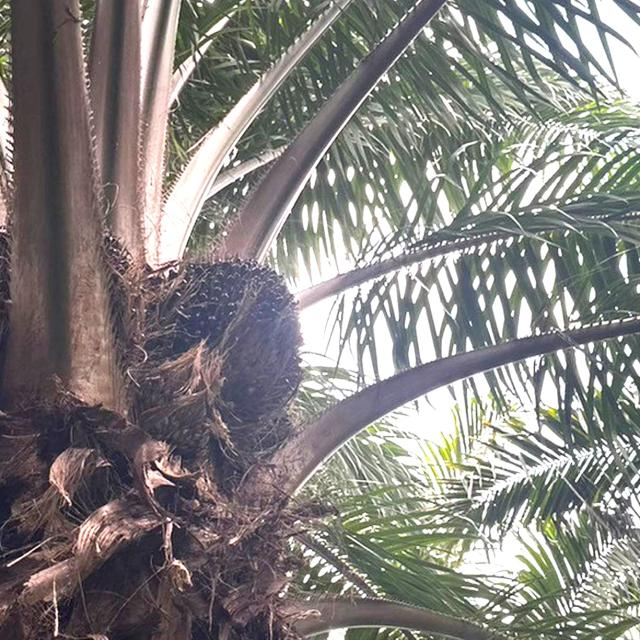unripe: (144, 254, 306, 426)
